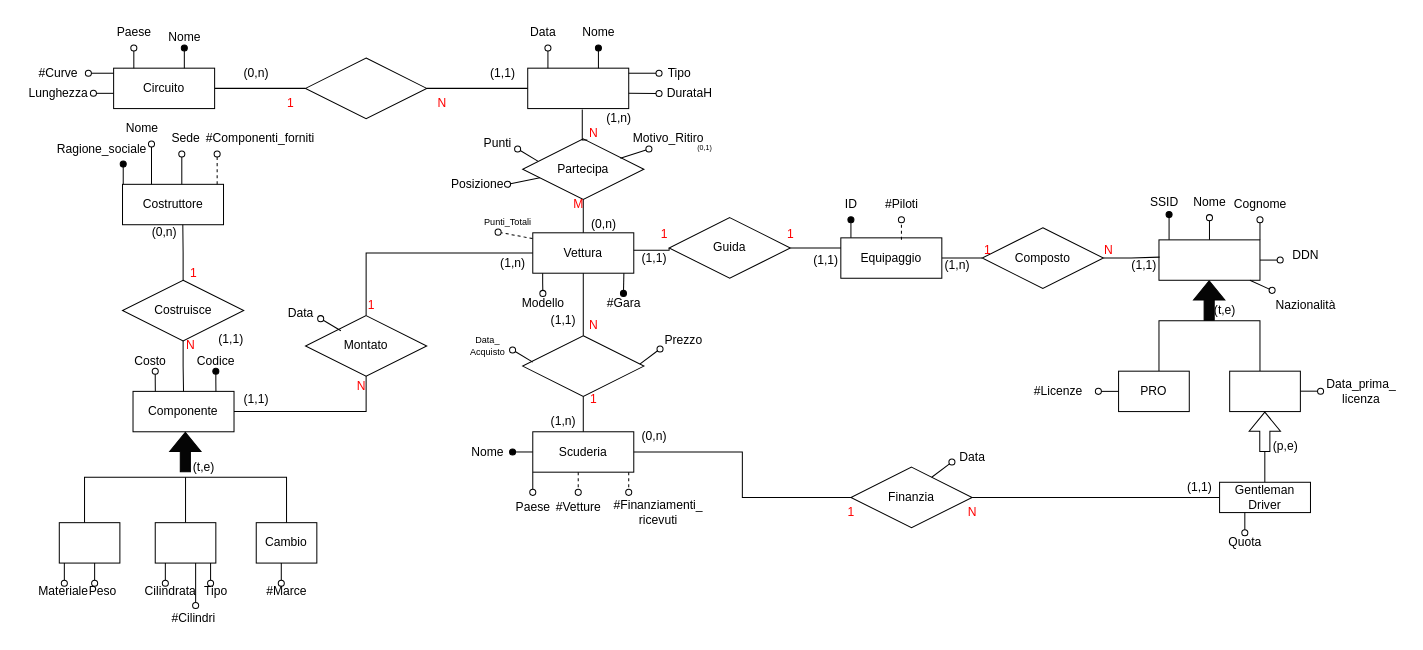
Some shapes in this 1423 by 650 pixel diagram are drawn without their labels. The box of each missing label's shape, as (x1, y1, x2, y2) in pixels:
AM: (1229, 370, 1300, 412)
Gara: (527, 67, 629, 109)
Gestisce: (522, 335, 644, 396)
Motore: (154, 522, 216, 563)
Pilota: (1158, 239, 1260, 280)
Si svolge: (305, 57, 427, 119)
Telaio: (58, 522, 120, 563)
